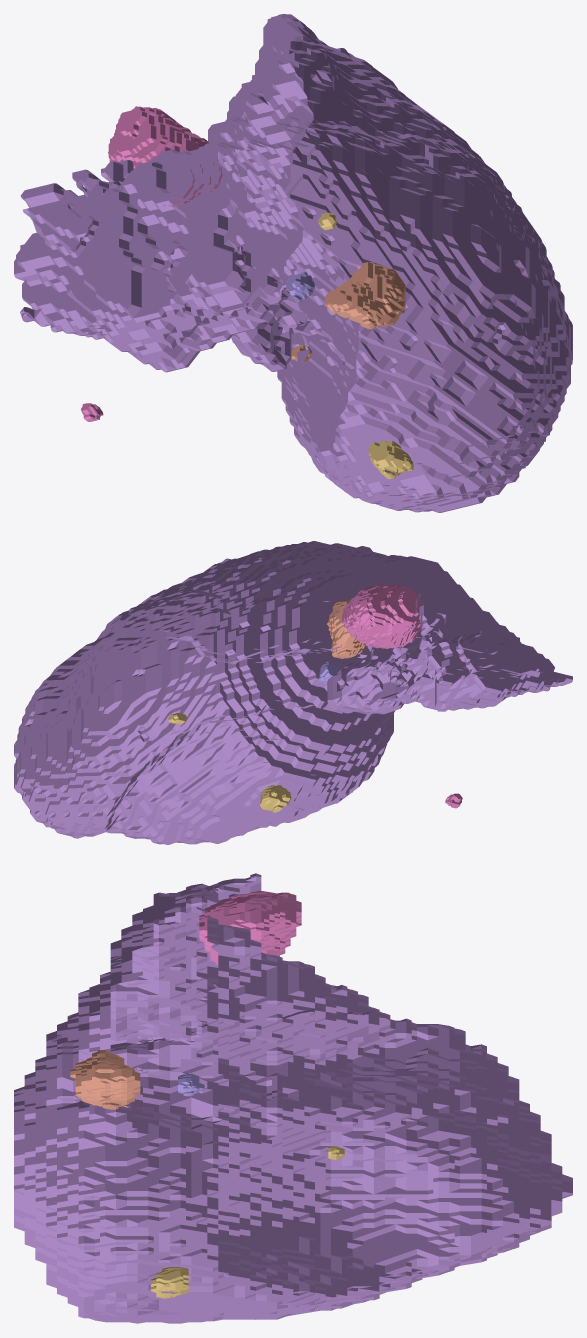
Rendered from mri_liver_core.glb.
3 renders of one model, top to bottom at view 1: azimuth 30°, elevation 25°; view 2: azimuth 150°, elevation 25°; view 3: azimuth 270°, elevation 25°, orthographic. The views are drawn at different scales.
Visible parts, largest first — view 1: Liver_Shell, Lesion_M01, Lesion_M02, Lesion_M03, Lesion_M12; view 2: Liver_Shell, Lesion_M01, Lesion_M02, Lesion_M03; view 3: Liver_Shell, Lesion_M01, Lesion_M02, Lesion_M03.
Boxes of the visible parts, <box> form: Liver_Shell: <box>14,14,572,512</box>; Lesion_M01: <box>108,106,222,206</box>; Lesion_M02: <box>325,262,405,329</box>; Lesion_M03: <box>368,441,413,479</box>; Lesion_M12: <box>286,272,314,301</box>; Liver_Shell: <box>14,541,572,844</box>; Lesion_M01: <box>342,584,423,648</box>; Lesion_M02: <box>327,600,365,658</box>; Lesion_M03: <box>260,785,291,812</box>; Liver_Shell: <box>14,873,572,1323</box>; Lesion_M01: <box>199,891,301,964</box>; Lesion_M02: <box>70,1050,140,1109</box>; Lesion_M03: <box>151,1267,188,1298</box>.
Size of the model in its own units: 202 by 136 by 208.
